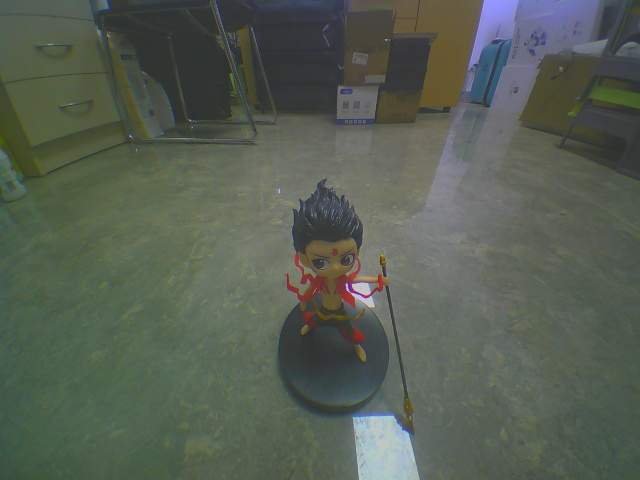Nezha: (272, 170, 434, 433)
